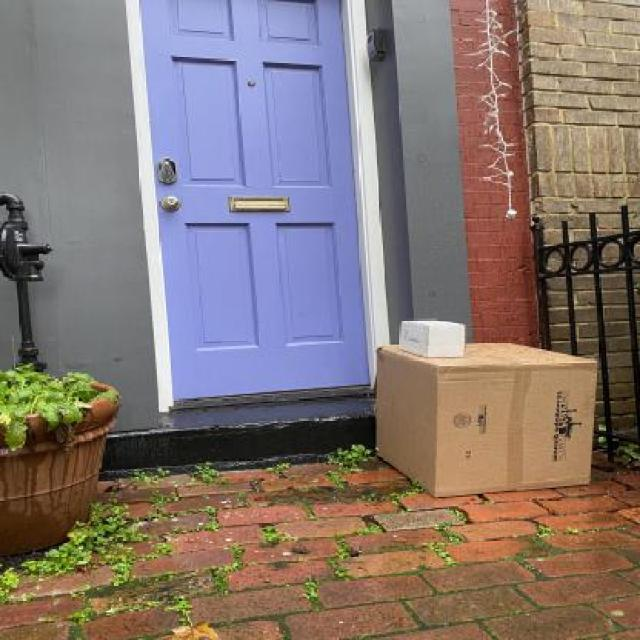cardboxes: (365, 338, 600, 500), (393, 314, 472, 360)
